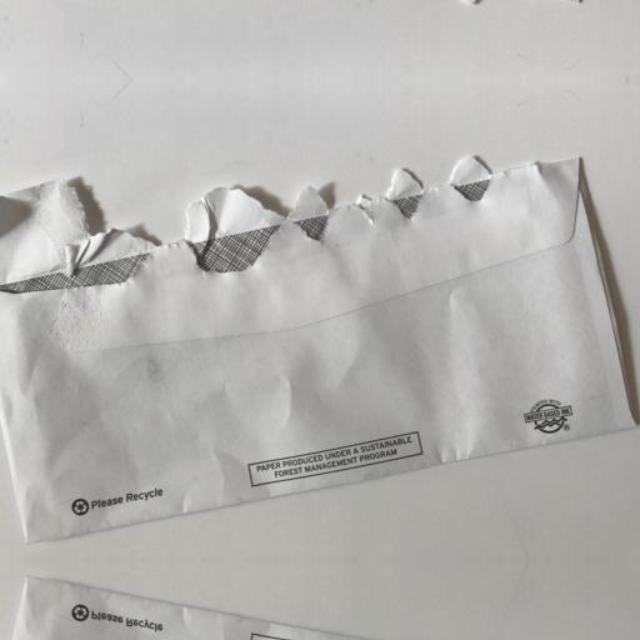paper: (0, 152, 638, 541), (0, 578, 638, 640), (0, 0, 638, 7)
